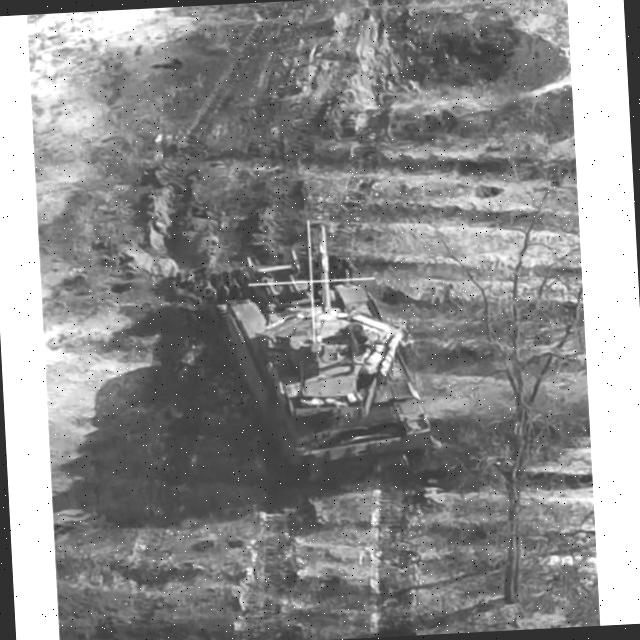MBT: (219, 221, 432, 484)
